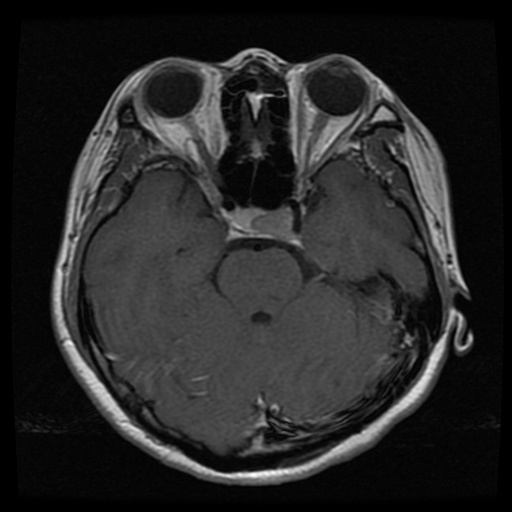pituitary: (227, 209, 293, 235)
